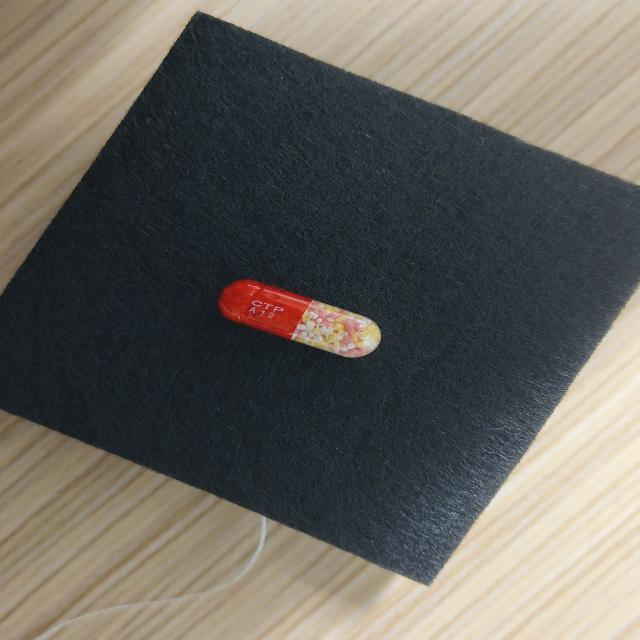Intact Capsule: (217, 279, 381, 358)
